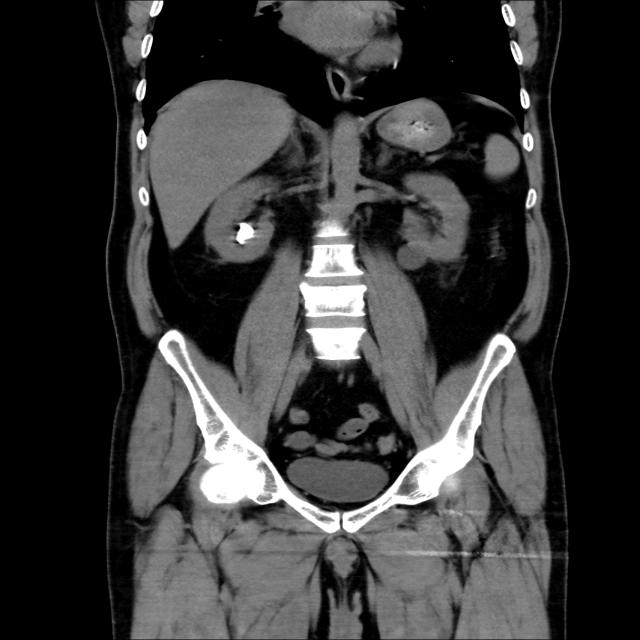kidneystone: (236, 222, 255, 244)
